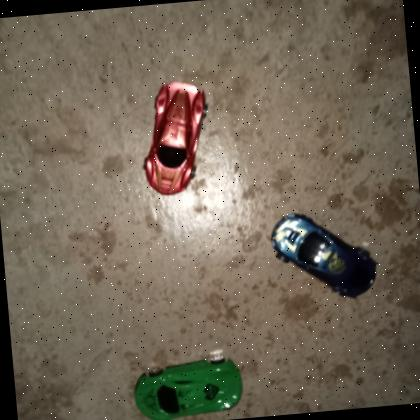Car: (268, 206, 380, 307), (133, 77, 216, 200), (129, 352, 247, 420)
